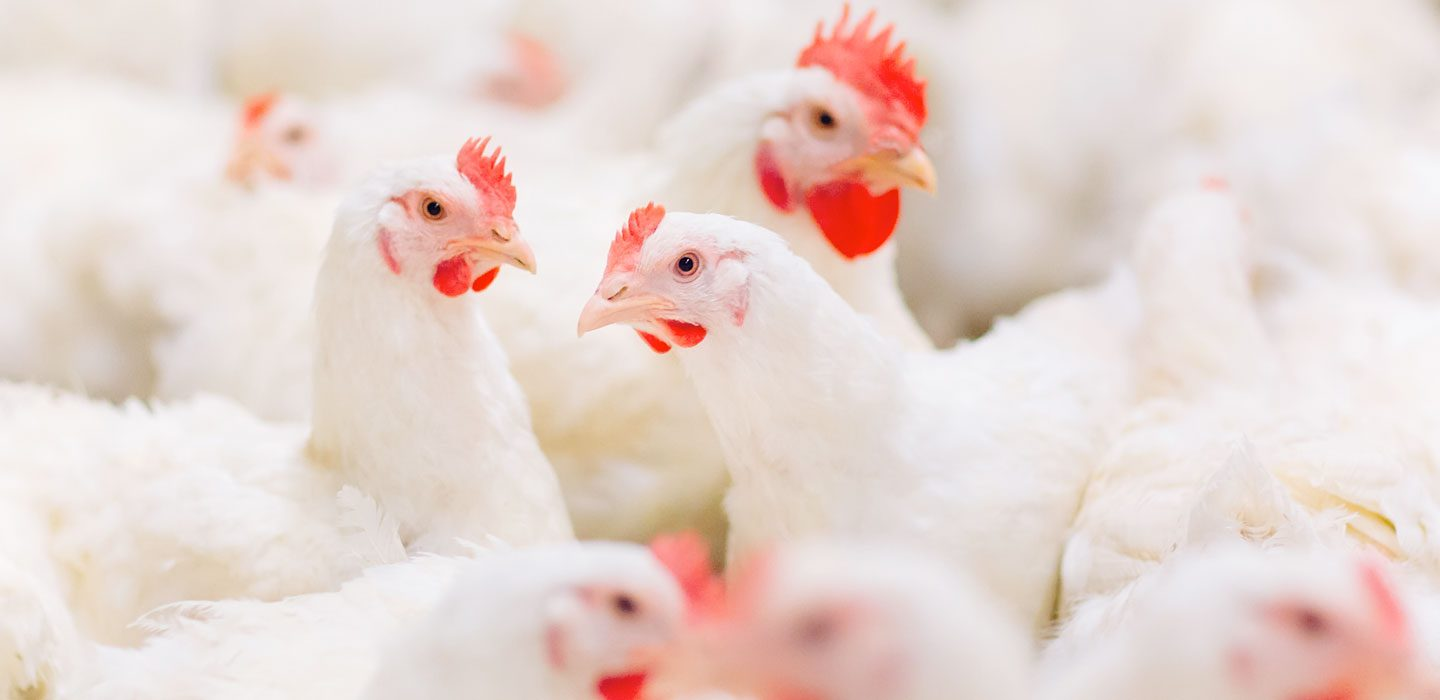Healthy: (565, 178, 1150, 695), (13, 115, 555, 640), (687, 0, 964, 280)
